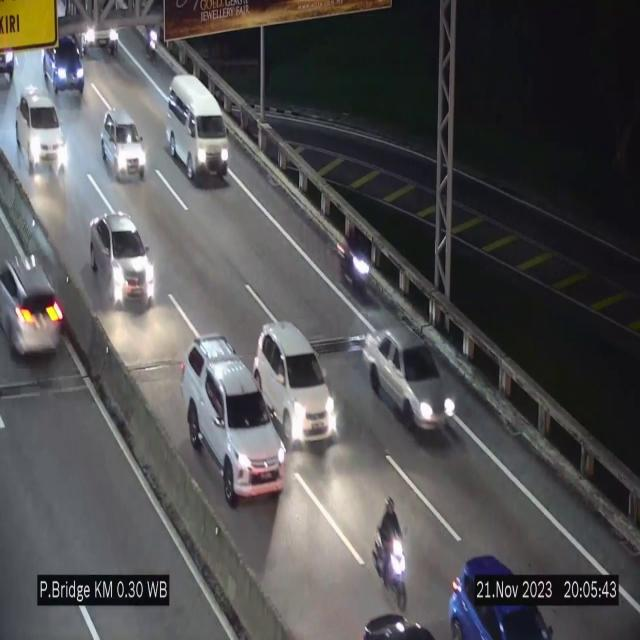Car: (183, 336, 285, 505), (359, 317, 457, 442), (444, 539, 553, 640), (254, 321, 338, 444), (0, 231, 62, 363), (166, 75, 228, 185), (87, 215, 157, 312), (16, 88, 68, 173), (34, 34, 92, 98), (101, 108, 146, 182)
Motorcycle: (375, 494, 411, 620), (335, 220, 373, 300), (140, 8, 163, 65)
Truck: (65, 0, 124, 55)
